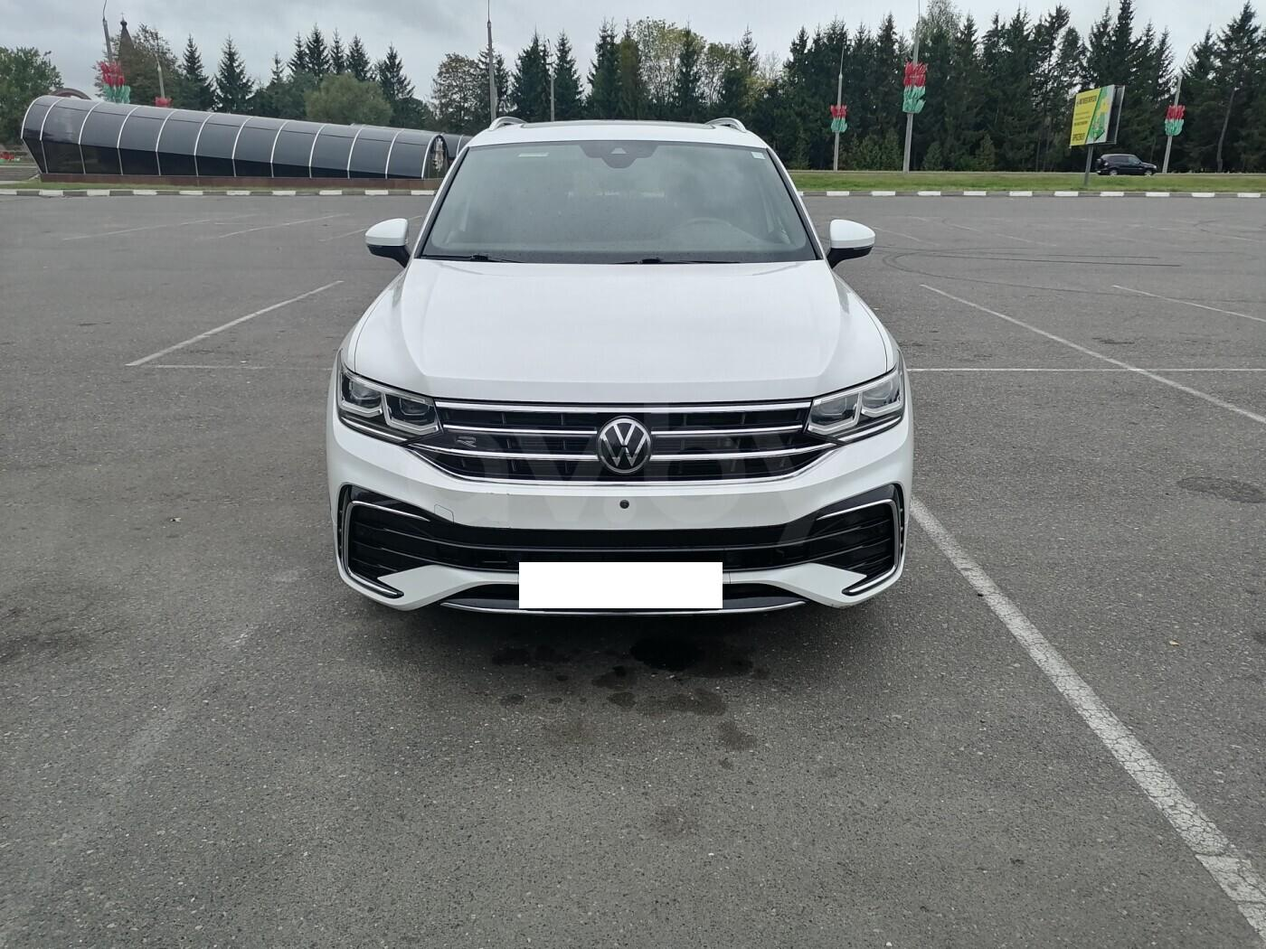Tiguan_2020-2024: (329, 111, 916, 624)
